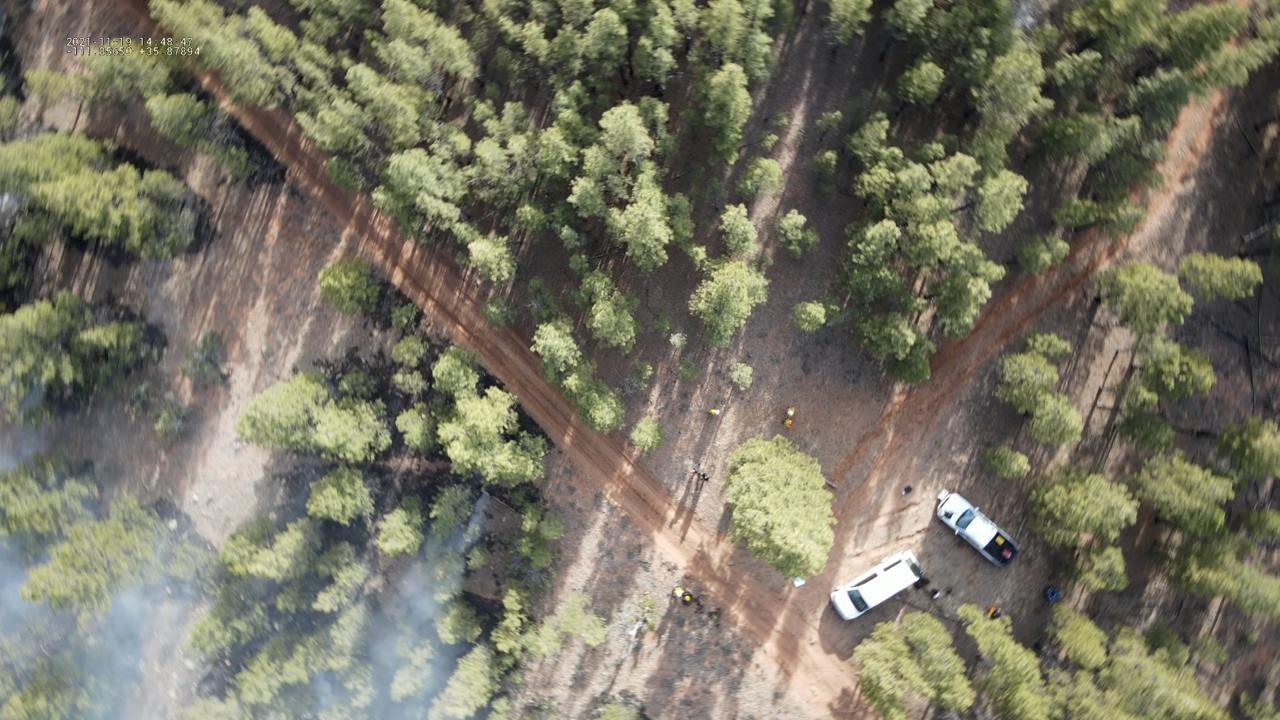smoke: (309, 486, 489, 720), (0, 525, 209, 720), (0, 383, 54, 483)
